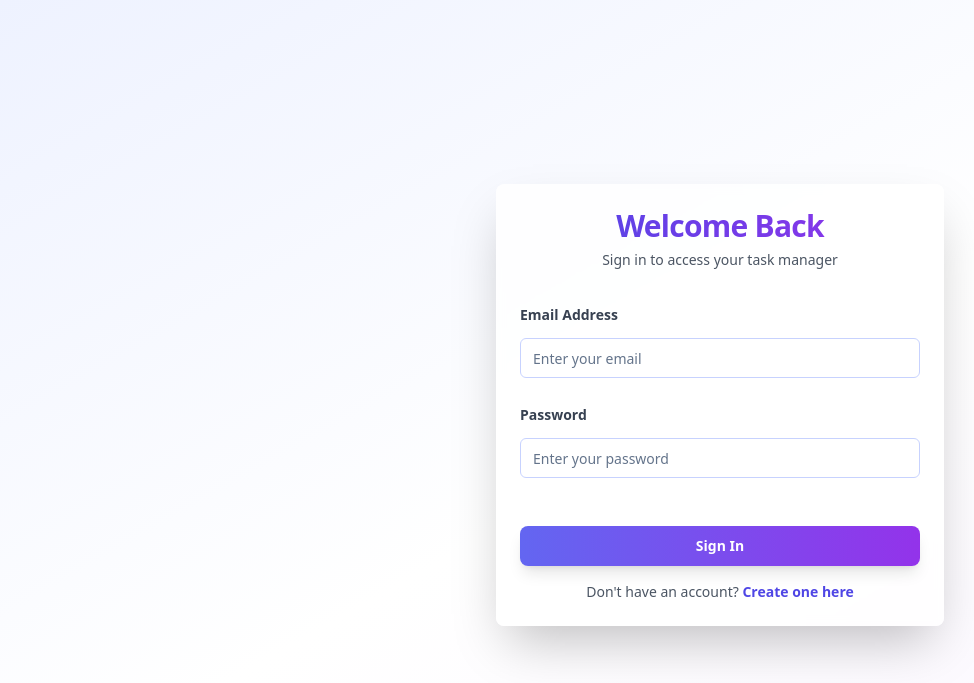
Test case: LoginPage › shows loading state during login
In the field with placeholder "Enter your email": (720, 358) [520,338,920,378], type "test@example.com"
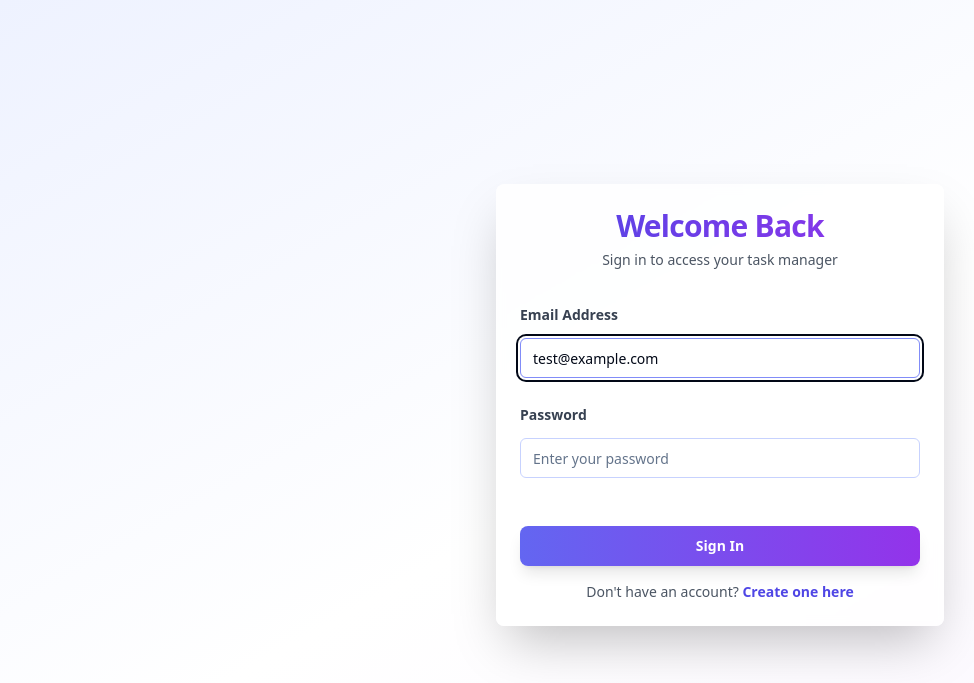
In the password field with placeholder "Enter your password": (720, 458) [520,438,920,478], type "password123"
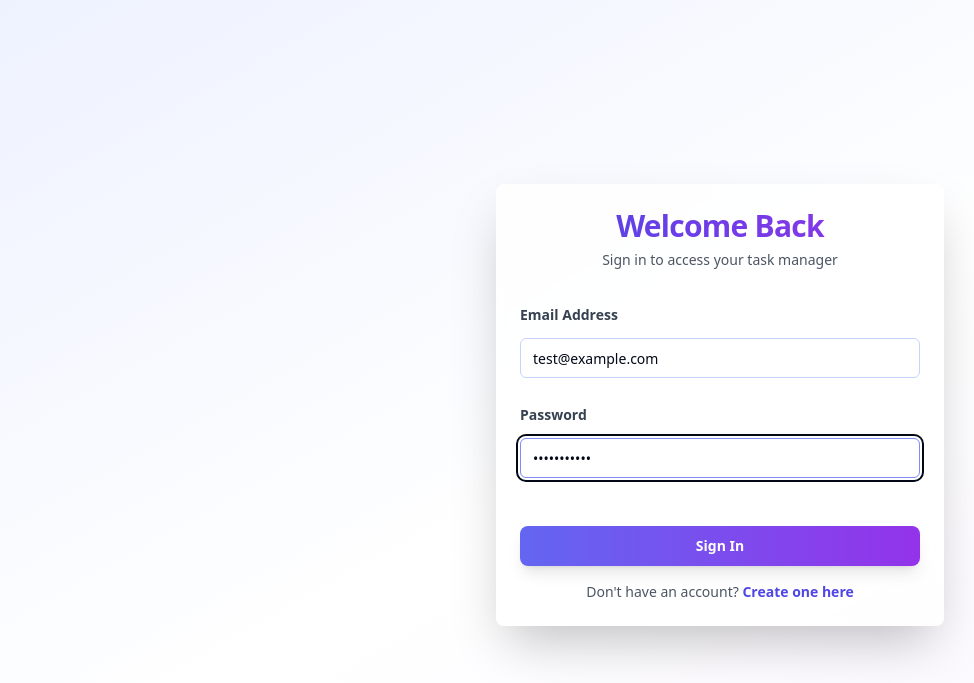
Click the button "Sign In": click(720, 546) [520,526,920,566]
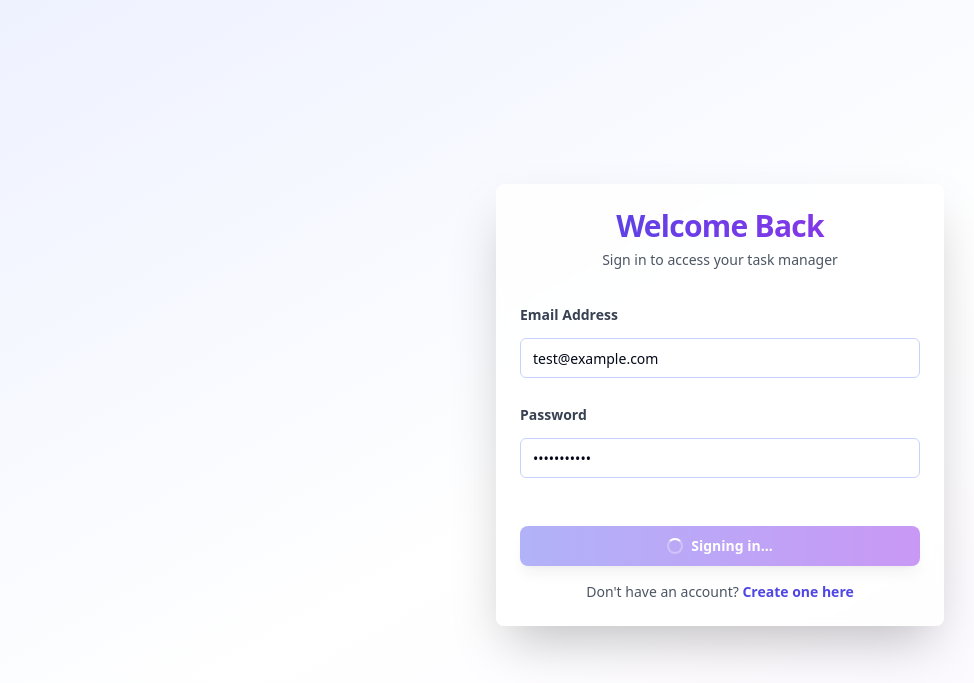
Expected: the button named "sign in" is disabled, [520,526,920,566]
